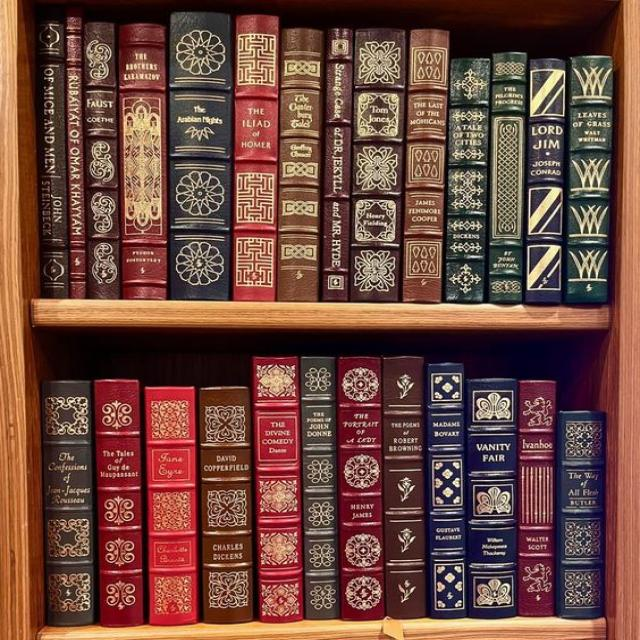book: (170, 13, 230, 298), (354, 28, 407, 301), (254, 356, 305, 625), (197, 385, 254, 622), (116, 24, 164, 301), (40, 380, 94, 624), (335, 356, 385, 619), (464, 380, 518, 620), (144, 386, 198, 626), (402, 28, 449, 303), (234, 16, 278, 300), (93, 379, 143, 627), (279, 30, 323, 301), (564, 56, 612, 303), (444, 58, 490, 301), (384, 357, 426, 619), (81, 21, 120, 299), (559, 413, 605, 620), (320, 26, 354, 301), (299, 356, 334, 620), (430, 364, 466, 618), (491, 54, 528, 301), (528, 56, 565, 302), (519, 381, 556, 619), (38, 23, 69, 297), (67, 2, 85, 299)
